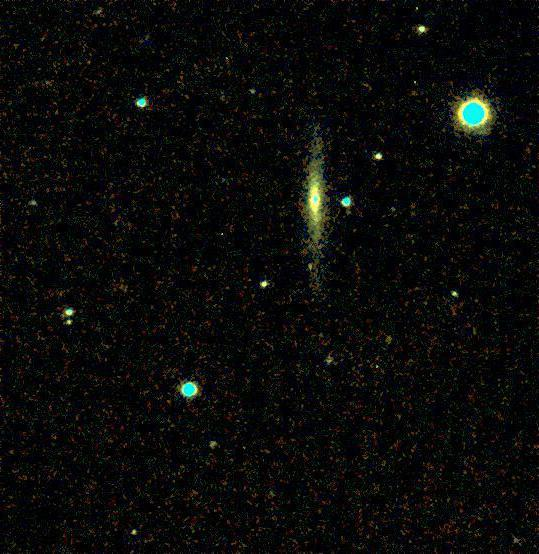star: (296, 258, 326, 288)
